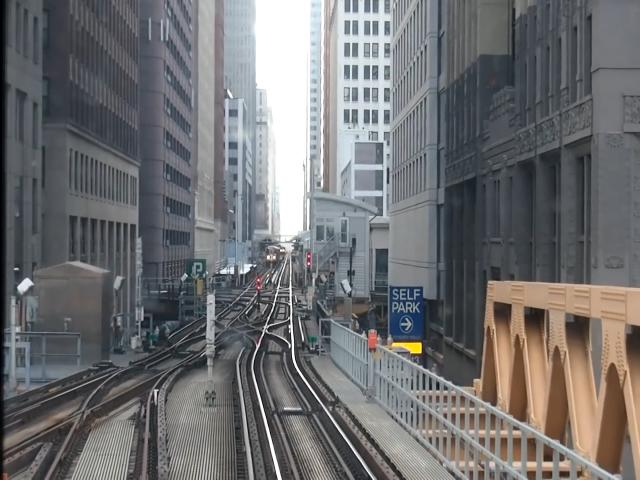signal light: (257, 278, 263, 312), (308, 252, 312, 275)
